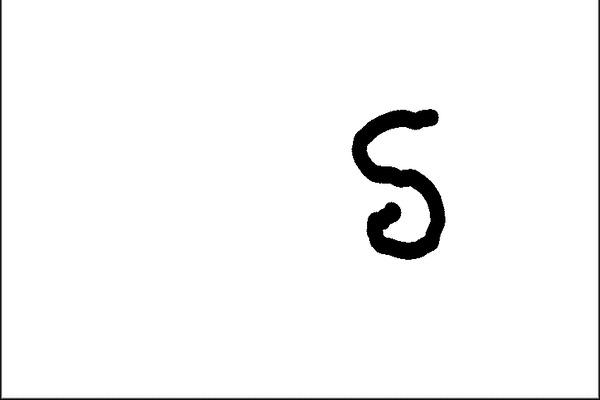S: (334, 101, 461, 263)
